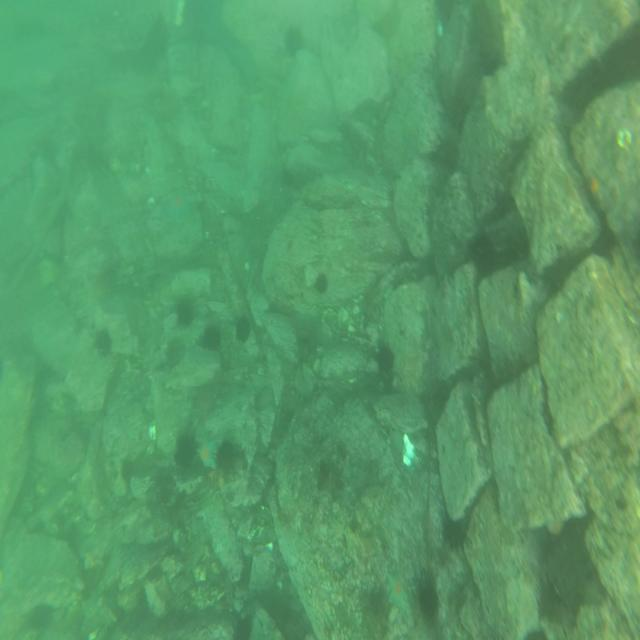echinus: (171, 429, 201, 467), (163, 329, 187, 369), (374, 342, 399, 379), (231, 312, 255, 350), (93, 324, 115, 359), (312, 266, 332, 303), (283, 22, 303, 59), (216, 439, 236, 473), (176, 300, 198, 330), (203, 324, 221, 355)
scallop: (400, 432, 418, 471)
starfish: (386, 570, 409, 617), (164, 194, 193, 223), (196, 434, 218, 472)
